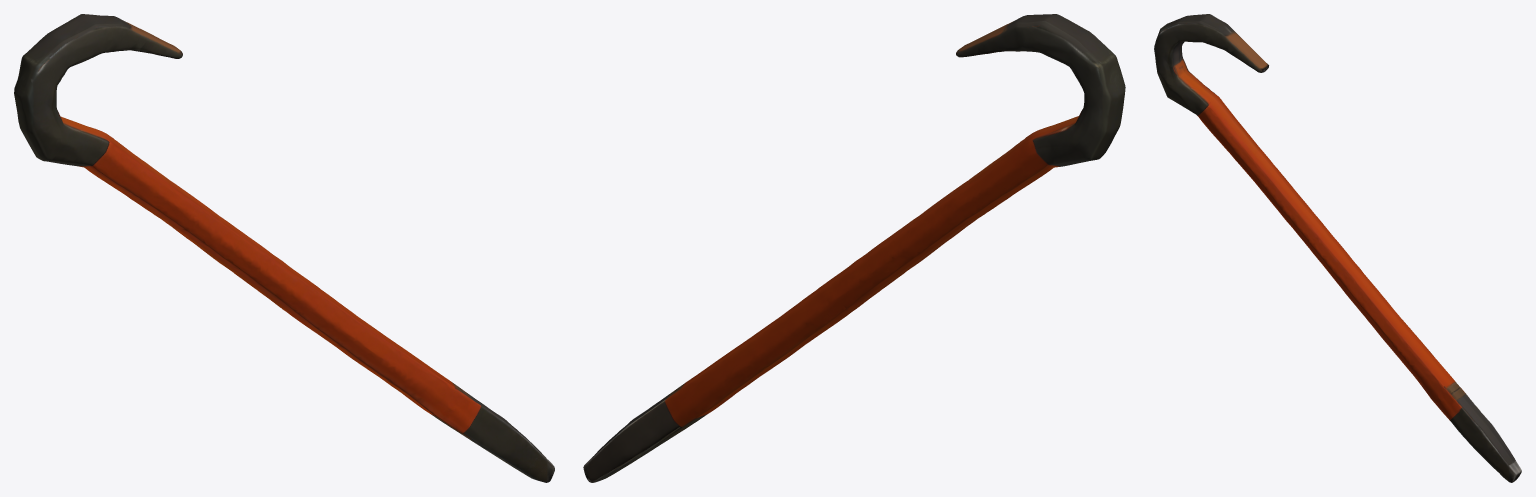
File: Model_Crowbar.fbx
3 views of the same model, side by side, from view 1: azimuth 30°, elevation 25°; view 2: azimuth 150°, elevation 25°; view 3: azimuth 330°, elevation 25° (orthographic). The views are drawn at different scales.
Parts seen in each view (by area): view 1: Mesh1.0; view 2: Mesh1.0; view 3: Mesh1.0.
Part boxes in pixels (x1=…): Mesh1.0: x1=14, y1=14, x2=554, y2=482; Mesh1.0: x1=583, y1=14, x2=1125, y2=482; Mesh1.0: x1=1154, y1=14, x2=1521, y2=482.
Bounding box in the file's own units: 195 × 200 × 14.32.
1 material, 1 textured.
